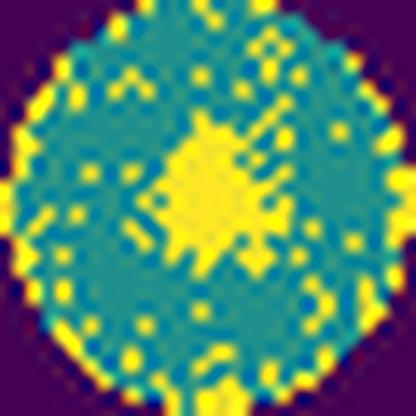Center: (146, 111, 292, 281)
